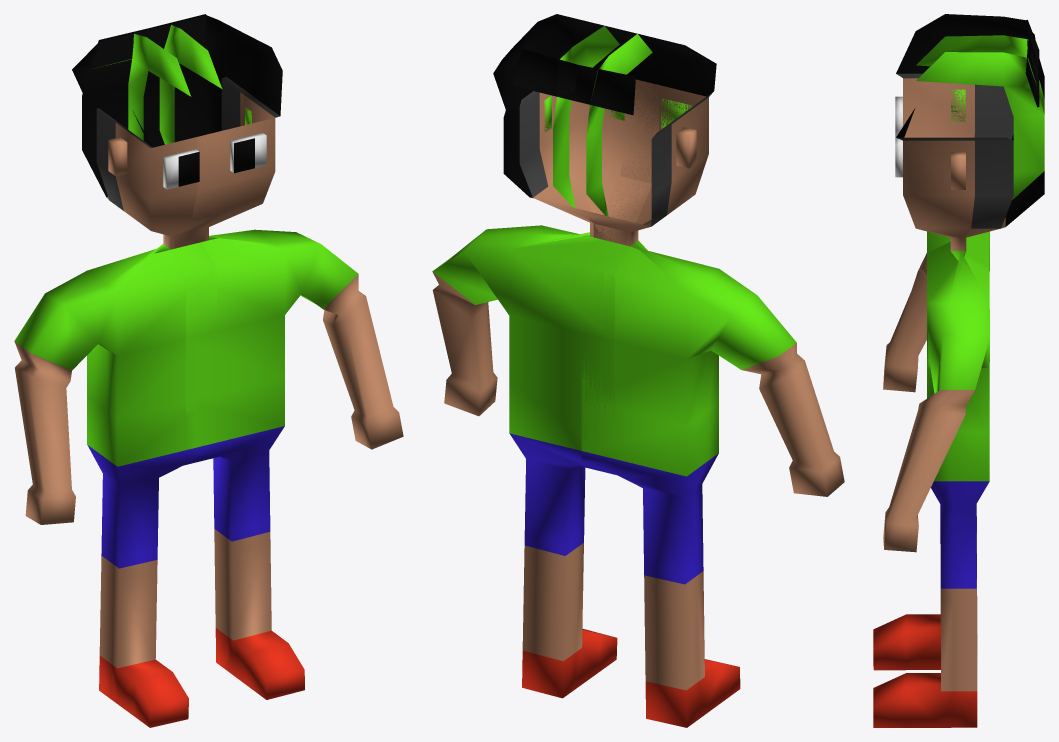
Rendered from CHARACTER (1).fbx.
3 views of the same model, side by side, from view 1: azimuth 30°, elevation 25°; view 2: azimuth 150°, elevation 25°; view 3: azimuth 270°, elevation 25° (orthographic). The views are drawn at different scales.
Parts seen in each view (by area): view 1: Cube; view 2: Cube; view 3: Cube.
Boxes of the visible parts, x1=… form: Cube: x1=14, y1=14, x2=403, y2=727; Cube: x1=432, y1=14, x2=844, y2=727; Cube: x1=873, y1=14, x2=1044, y2=727.
Size of the model in its own units: 60 by 99.6 by 23.97.
